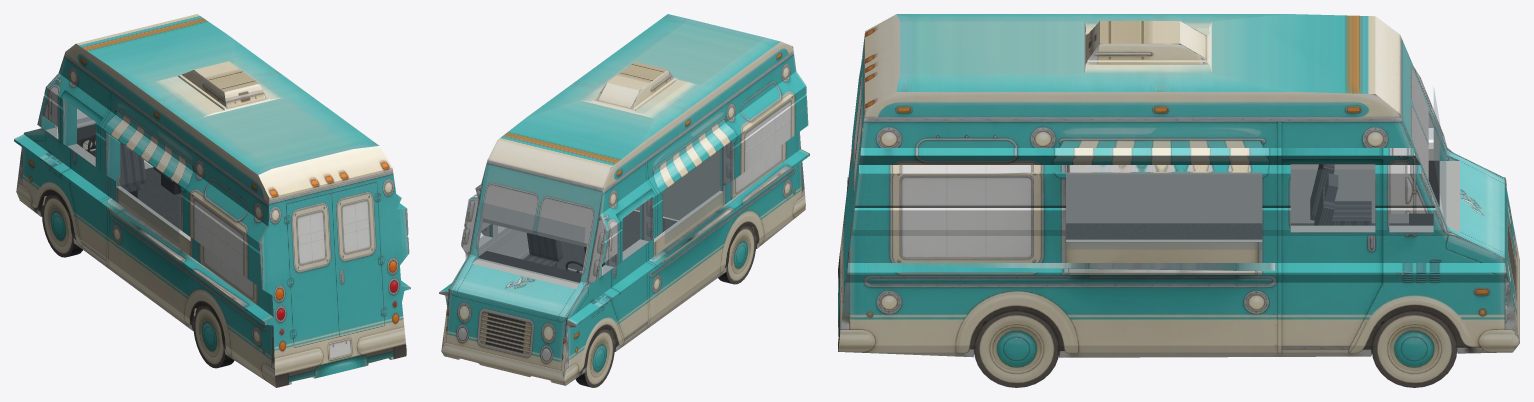
The model's file is food_truck.glb.
The picture shows the model from 3 angles, left to right: view 1: azimuth 30°, elevation 25°; view 2: azimuth 150°, elevation 25°; view 3: azimuth 270°, elevation 25°; orthographic projection. The views are drawn at different scales.
Visible parts, largest first — view 1: food_truck, food_truck_cabin, wheel_FL, wheel_BL; view 2: food_truck, food_truck_cabin, wheel_FL, wheel_BL; view 3: food_truck, food_truck_cabin, wheel_FR, wheel_BR.
Part boxes in pixels (<box>): food_truck: <box>14,14,410,387</box>; food_truck_cabin: <box>41,100,189,243</box>; wheel_FL: <box>42,195,82,257</box>; wheel_BL: <box>193,306,234,368</box>; food_truck: <box>439,14,809,385</box>; food_truck_cabin: <box>477,141,733,283</box>; wheel_FL: <box>575,329,614,387</box>; wheel_BL: <box>718,226,755,284</box>; food_truck: <box>838,14,1519,357</box>; food_truck_cabin: <box>1066,90,1445,249</box>; wheel_FR: <box>1372,309,1456,387</box>; wheel_BR: <box>974,309,1058,387</box>.
Bounding box in the file's own units: 2.33 × 3.54 × 6.94.
12 materials, 4 textured.
